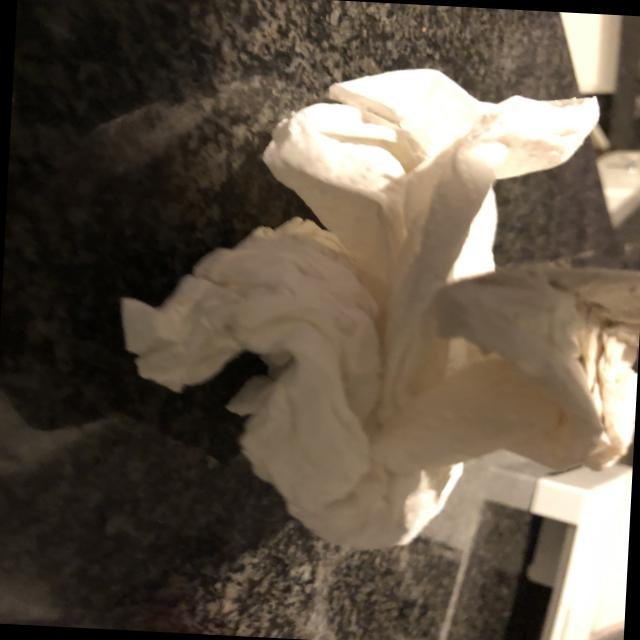organic waste: (105, 52, 640, 567)
